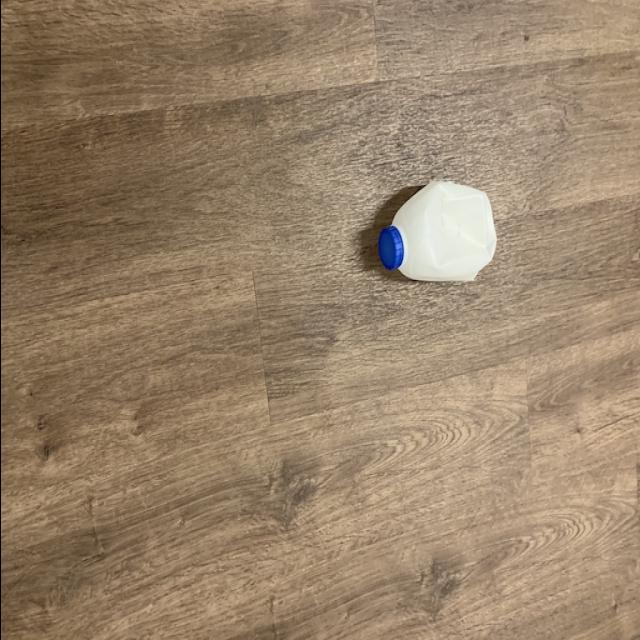litter: (375, 178, 496, 282)
